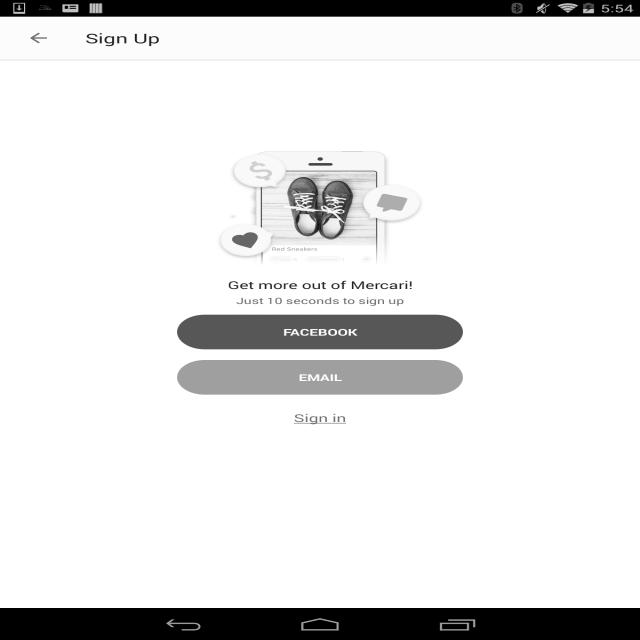Button: (172, 357, 466, 398), (173, 312, 467, 352)
ImageButton: (24, 29, 56, 47)
ImageView: (209, 151, 439, 264)
TextView: (224, 277, 421, 292), (234, 294, 410, 308), (81, 28, 164, 48), (292, 407, 356, 427)
